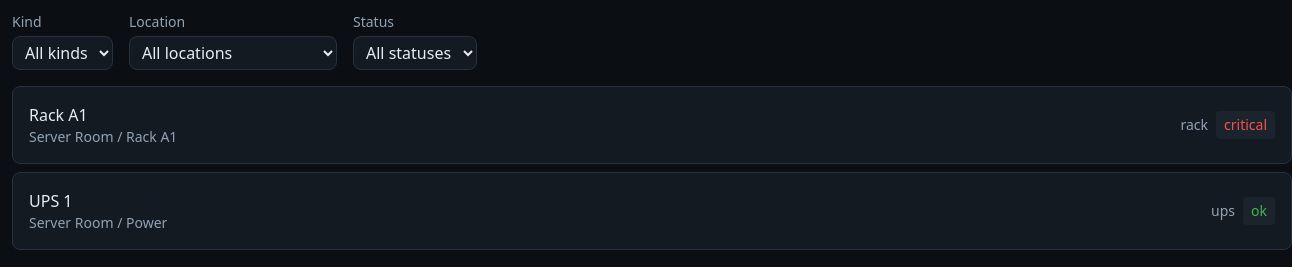
Test: DevicesPage filters › filters by status
expect the text "Rack A1" is shown: met, box [29, 104, 88, 126]
Step 1. Select "Critical" in the dropdown labelled "Status" → (415,53), box [353, 36, 477, 70]
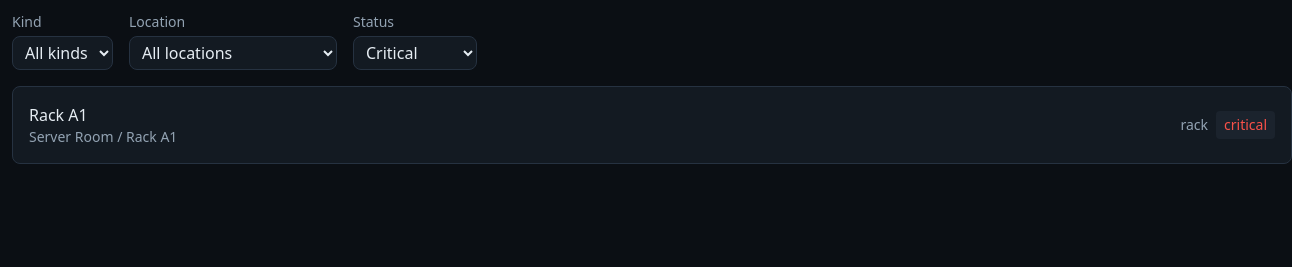
expect the text "Rack A1" is shown: met, box [29, 104, 88, 126]
expect the link "UPS 1" is gone: met
